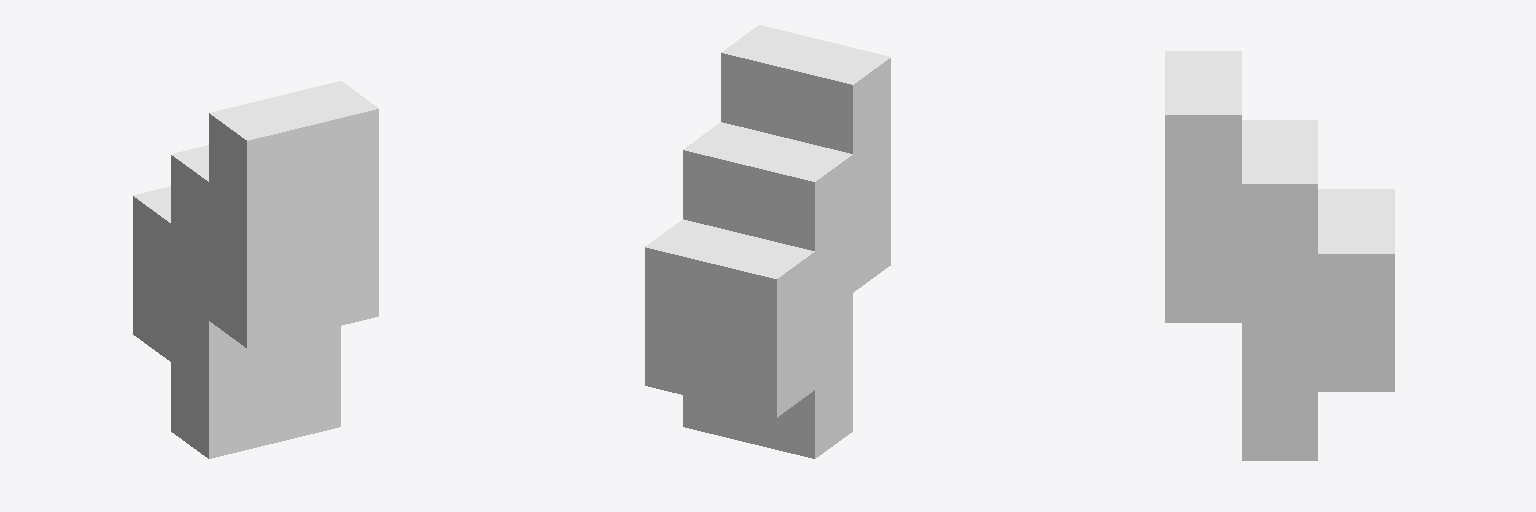
File: ZIBU_Original_Animation_Ready-8.obj
The picture shows the model from 3 angles: view 1: azimuth 30°, elevation 25°; view 2: azimuth 150°, elevation 25°; view 3: azimuth 270°, elevation 25°; orthographic projection.
Parts seen in each view (by area): view 1: object 1; view 2: object 1; view 3: object 1.
Part boxes in pixels (left/top/right/bottom): object 1: left=133, top=81, right=378, bottom=458; object 1: left=645, top=25, right=890, bottom=458; object 1: left=1165, top=51, right=1394, bottom=460.
Bounding box in the file's own units: 0.4 × 1 × 0.6.